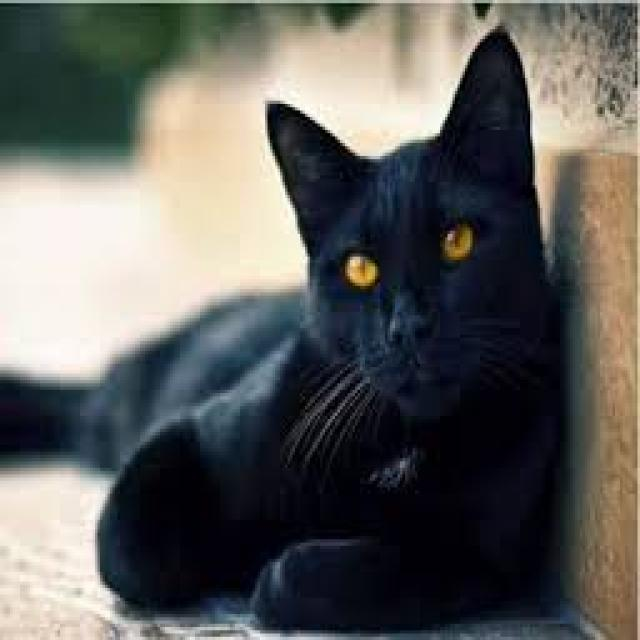black cat: (0, 1, 563, 640)
